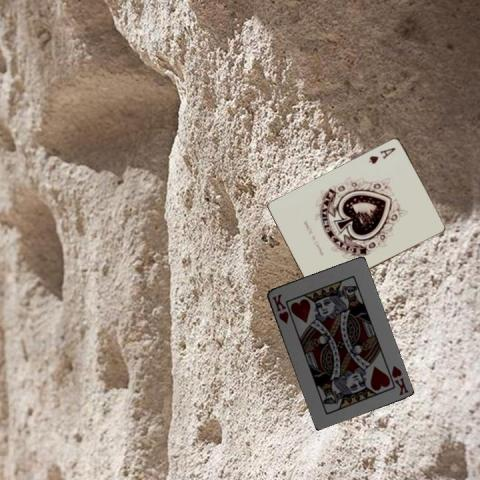As: (365, 145, 397, 165)
Kh: (388, 362, 410, 397), (269, 290, 290, 324)
